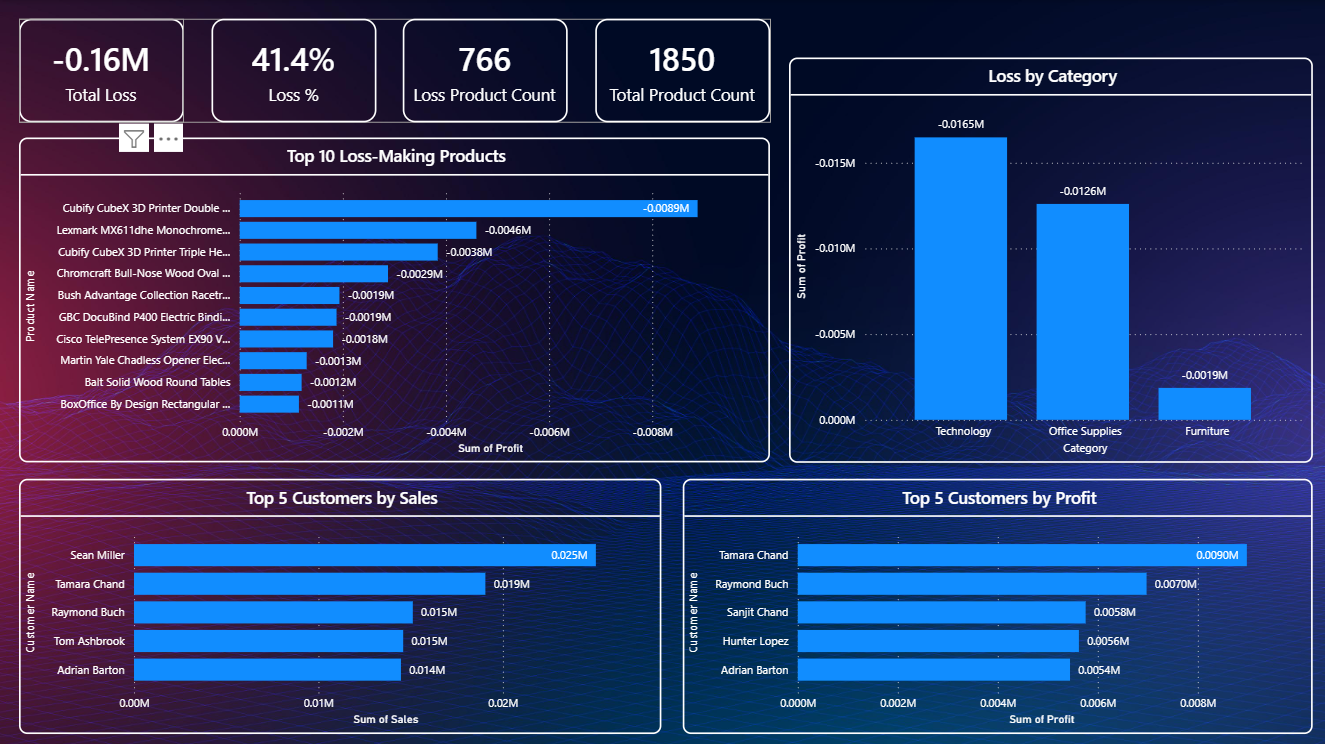

The page's visual inventory and layout, read from the dashboard file:
{"tool":"powerbi","page":{"name":"Profitability Analysis","canvas":[1280,720],"ordinal":1},"visuals":[{"type":"card","fields":{"Values":["Measure.Total Loss"]},"box":[19.3,17.9,159.3,100.1],"z":0,"group":"g1"},{"type":"barChart","title":"Top 10 Loss-Making Products","fields":{"Category":["cleaned_data.Product Name"],"Y":["Sum(cleaned_data.Profit)"]},"box":[19.3,132.7,725.1,313.7],"z":0},{"type":"card","fields":{"Values":["Measure.Loss %"]},"box":[204.7,17.9,159.3,100.1],"z":1000,"group":"g1"},{"type":"columnChart","title":"Loss by Category","fields":{"Category":["cleaned_data.Category"],"Y":["Sum(cleaned_data.Profit)"]},"box":[762.5,55.5,505.5,390.9],"z":1000},{"type":"group","id":"g1","title":"Group 1","box":[19.3,17.9,725.1,100.1],"z":2000},{"type":"card","fields":{"Values":["Measure.Loss Product Count"]},"box":[390.1,17.9,159.3,100.1],"z":2000,"group":"g1"},{"type":"barChart","title":"Top 5 Customers by Sales","fields":{"Category":["cleaned_data.Customer Name"],"Y":["Sum(cleaned_data.Sales)"]},"box":[19.3,462.1,620.1,246.1],"z":2001},{"type":"barChart","title":"Top 5 Customers by Profit","fields":{"Category":["cleaned_data.Customer Name"],"Y":["Sum(cleaned_data.Profit)"]},"box":[659.9,462.1,608,246.1],"z":2002},{"type":"card","fields":{"Values":["Measure.Total Product Count"]},"box":[575.5,17.9,168.9,100.1],"z":3000,"group":"g1"}]}

Visuals, with their boxes in screenshot pixels (x1, y1, x2, y2), scaled from the page's 1280x720 canvas onto the 1325x744 screenshot:
card - Measure.Total Loss: 20,18,185,122
"Top 10 Loss-Making Products" barChart: 20,137,771,461
card - Measure.Loss %: 212,18,377,122
"Loss by Category" columnChart: 789,57,1313,461
"Group 1" group: 20,18,771,122
card - Measure.Loss Product Count: 404,18,569,122
"Top 5 Customers by Sales" barChart: 20,478,662,732
"Top 5 Customers by Profit" barChart: 683,478,1312,732
card - Measure.Total Product Count: 596,18,771,122
